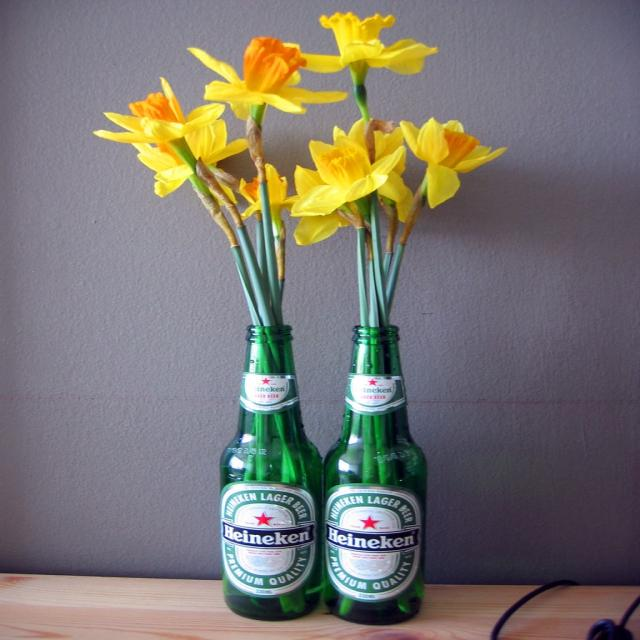heineken: (220, 482, 321, 598), (324, 486, 423, 603)
